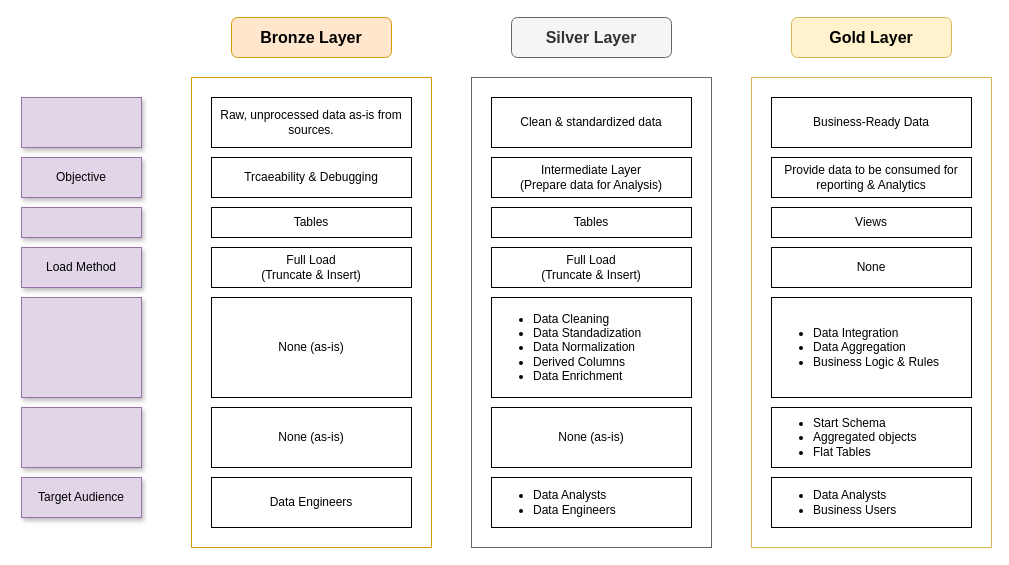
Some shapes in this 1009 by 565 pixel diagram are drawn without their labels. Each missing label, with the centre of its shape:
"Data Modelling" belongs at point 82,438.
"Data Transformation" belongs at point 82,348.
"Definition" belongs at point 82,123.
"Objective Type" belongs at point 82,223.
